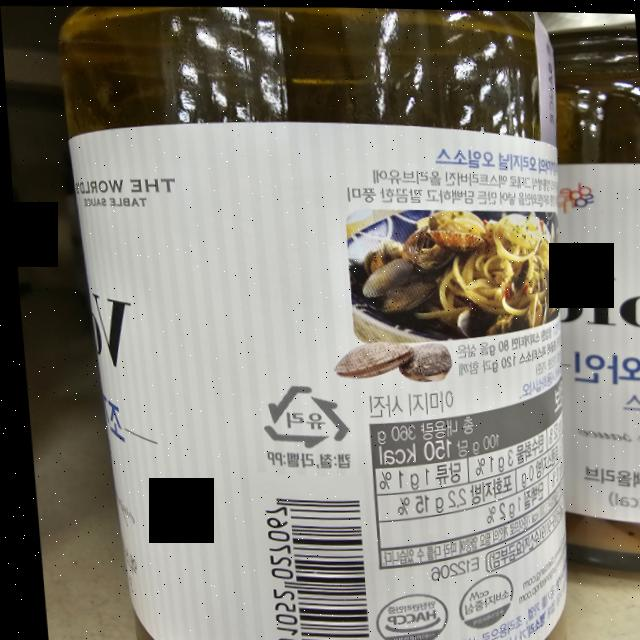Glass: (254, 378, 347, 449)
